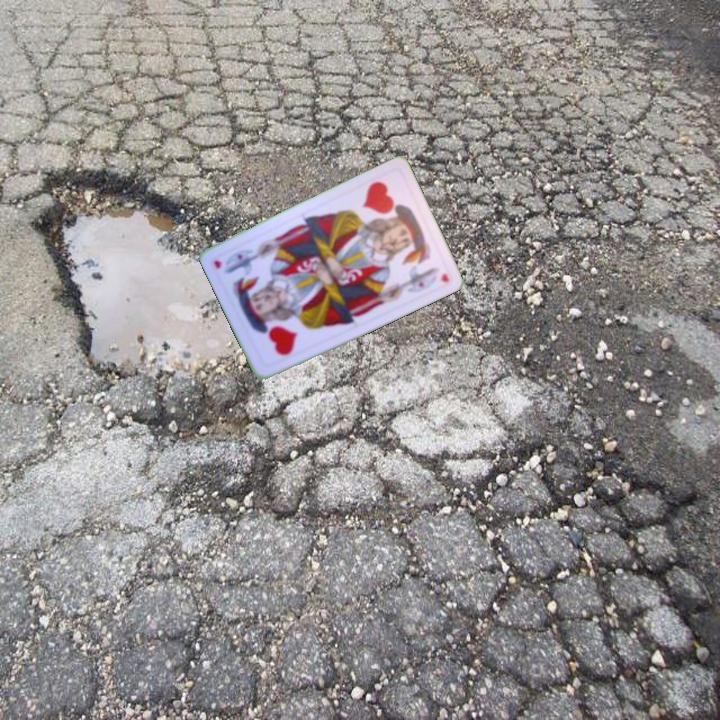h_j.png: (235, 288, 314, 371), (348, 167, 427, 250)
